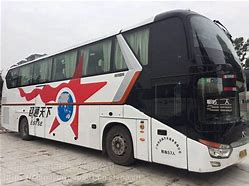bigcar: (0, 10, 247, 169)
